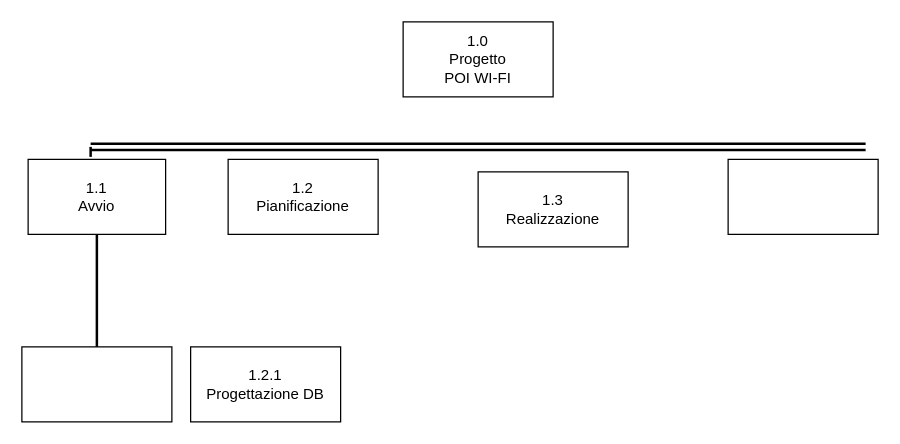
This 900x444 diagram has some shape labels left out. The centre of each missing label's shape, as x and y in pixels:
1.1.1 Formazione avanzata linguaggio HTML e SQL: the point at 96,384
1.4 Chiusura: the point at 802,196
